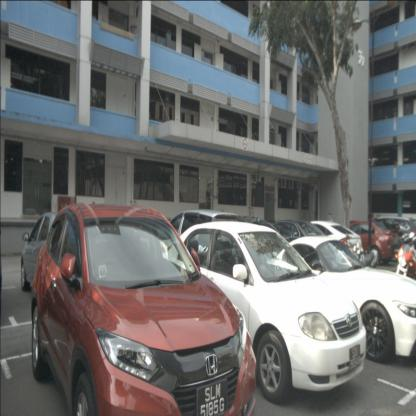human-pedestrian-adult: (326, 213, 334, 250)
vehicle-car: (31, 204, 257, 416), (162, 221, 367, 403), (273, 237, 416, 363), (21, 212, 100, 302), (158, 209, 240, 274), (284, 220, 364, 272), (254, 219, 332, 272), (329, 220, 397, 265), (358, 216, 416, 260)
vehicle-motorcycle: (389, 228, 416, 312), (342, 232, 378, 288)
